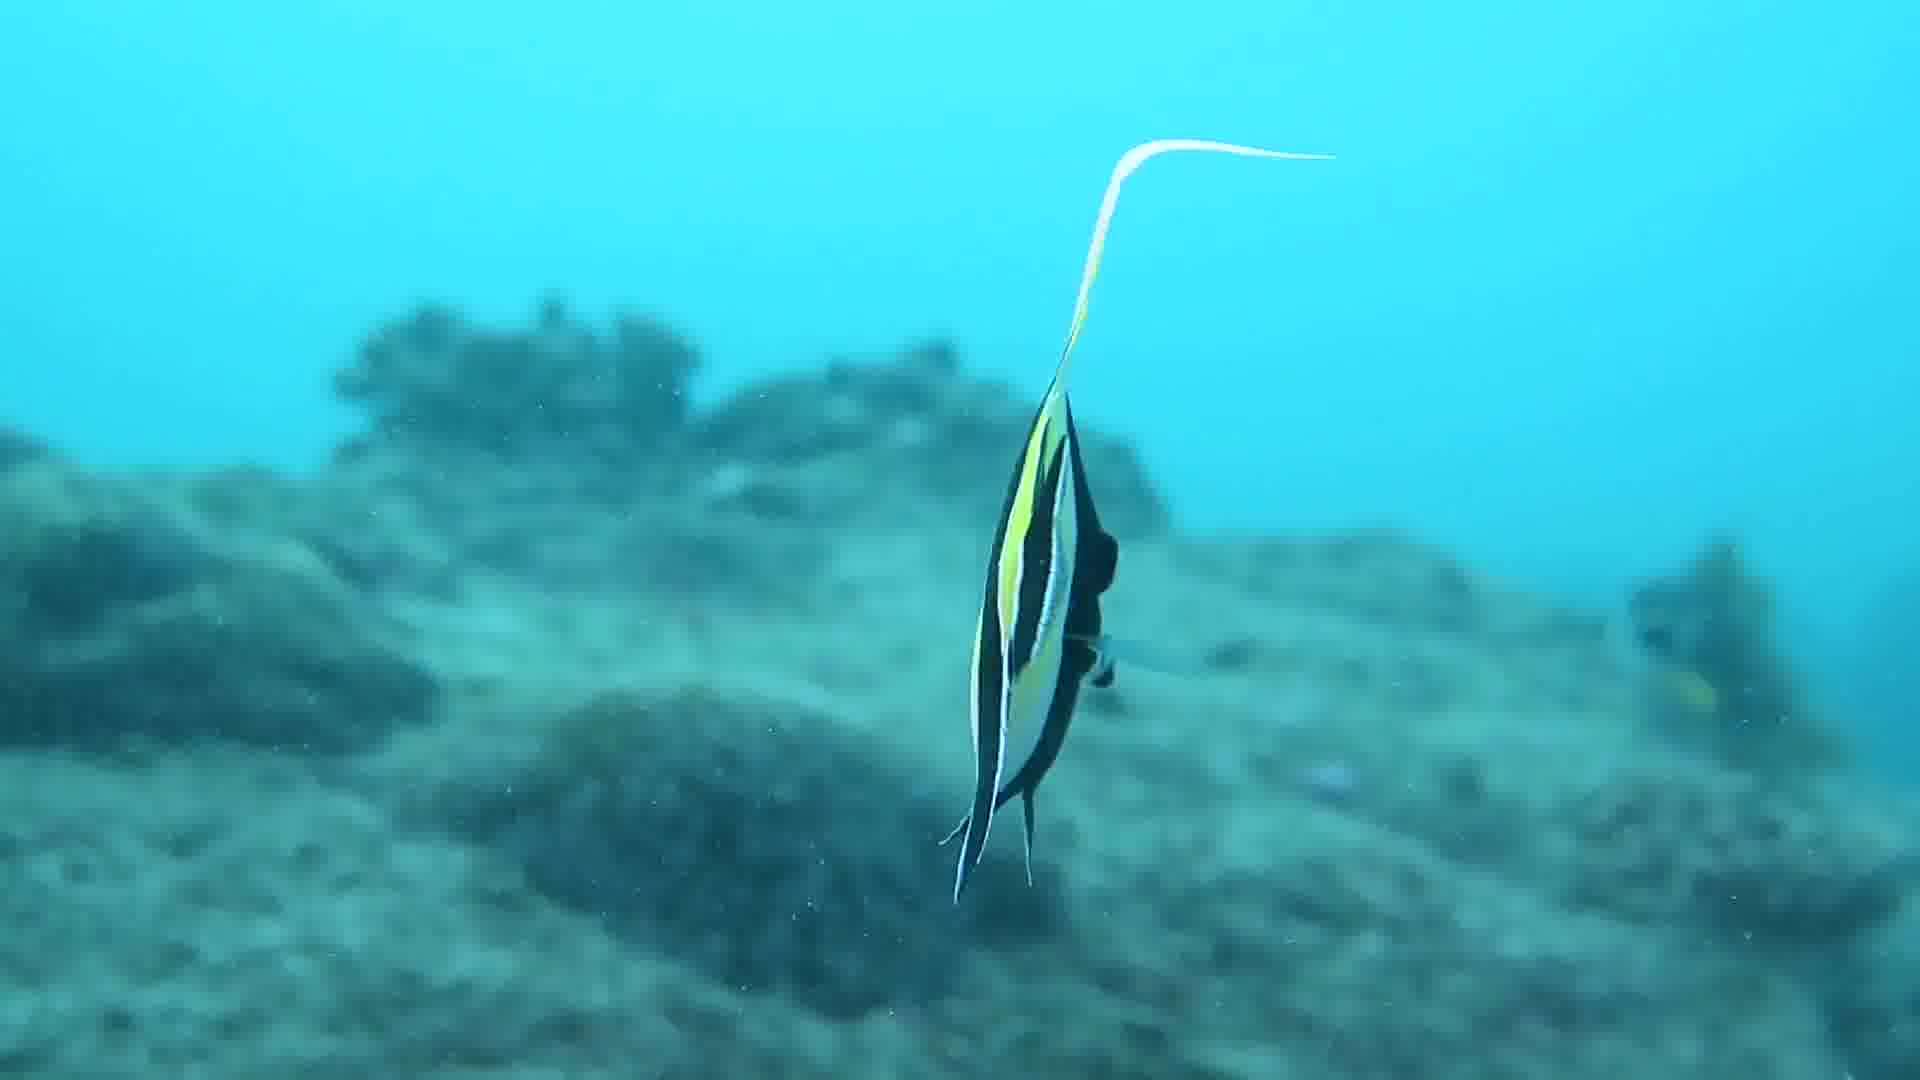Zanclus cornutus: (891, 353, 1163, 909)
